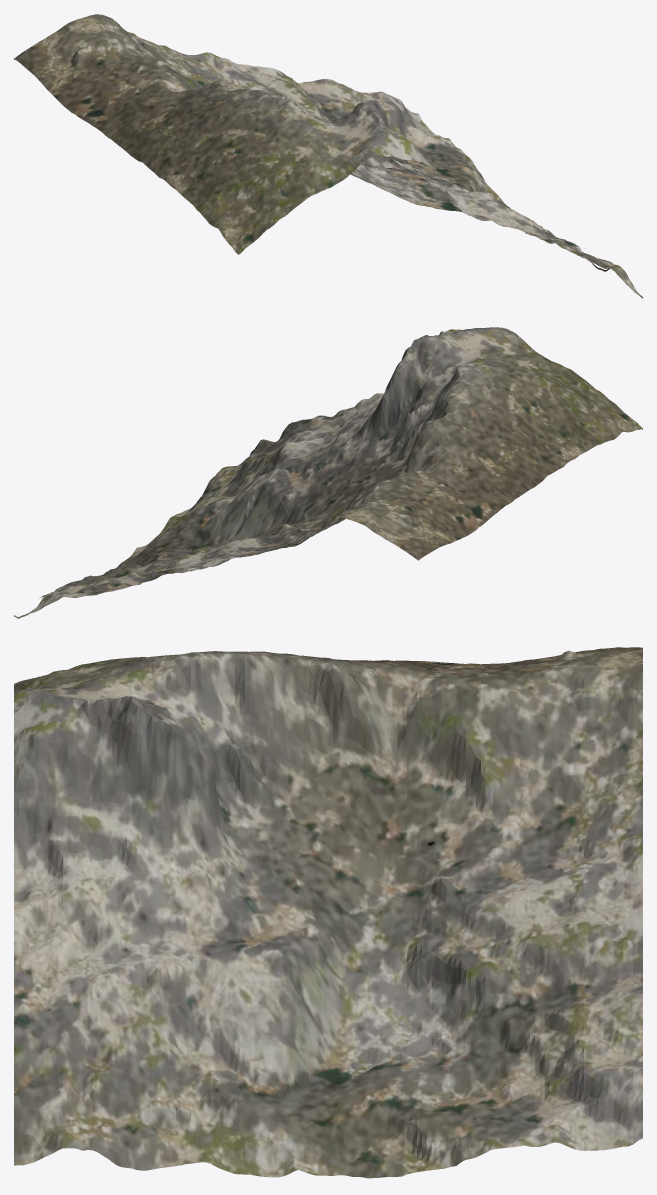
The picture shows the model from 3 angles, top to bottom: view 1: azimuth 30°, elevation 25°; view 2: azimuth 150°, elevation 25°; view 3: azimuth 270°, elevation 25°; orthographic projection. The views are drawn at different scales.
Size of the model in its own units: 250 by 138 by 241.
1 material, 1 textured.
